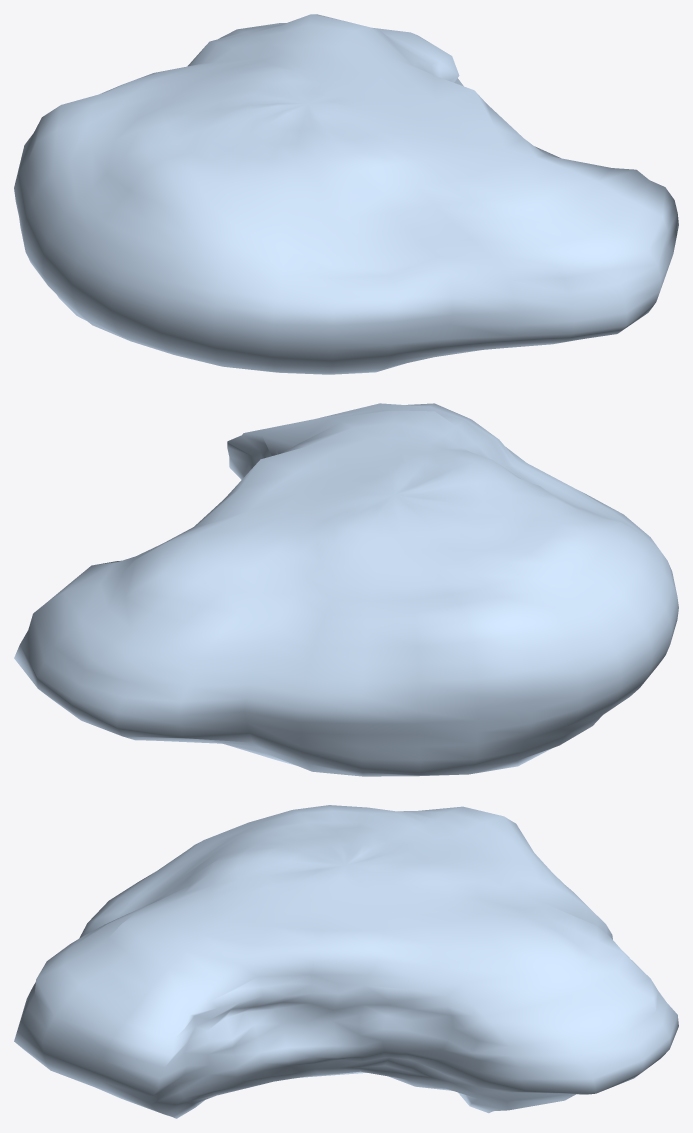
The model's file is hAsteroid4.obj.
The picture shows the model from 3 angles, top to bottom: view 1: azimuth 30°, elevation 25°; view 2: azimuth 150°, elevation 25°; view 3: azimuth 270°, elevation 25°; orthographic projection. The views are drawn at different scales.
Visible parts, largest first — view 1: working; view 2: working; view 3: working.
Part boxes in pixels (x1,y1,x2,y2): working: [14, 14, 678, 374]; working: [14, 403, 678, 776]; working: [14, 805, 678, 1118].
Size of the model in its own units: 200 by 68.76 by 242.
